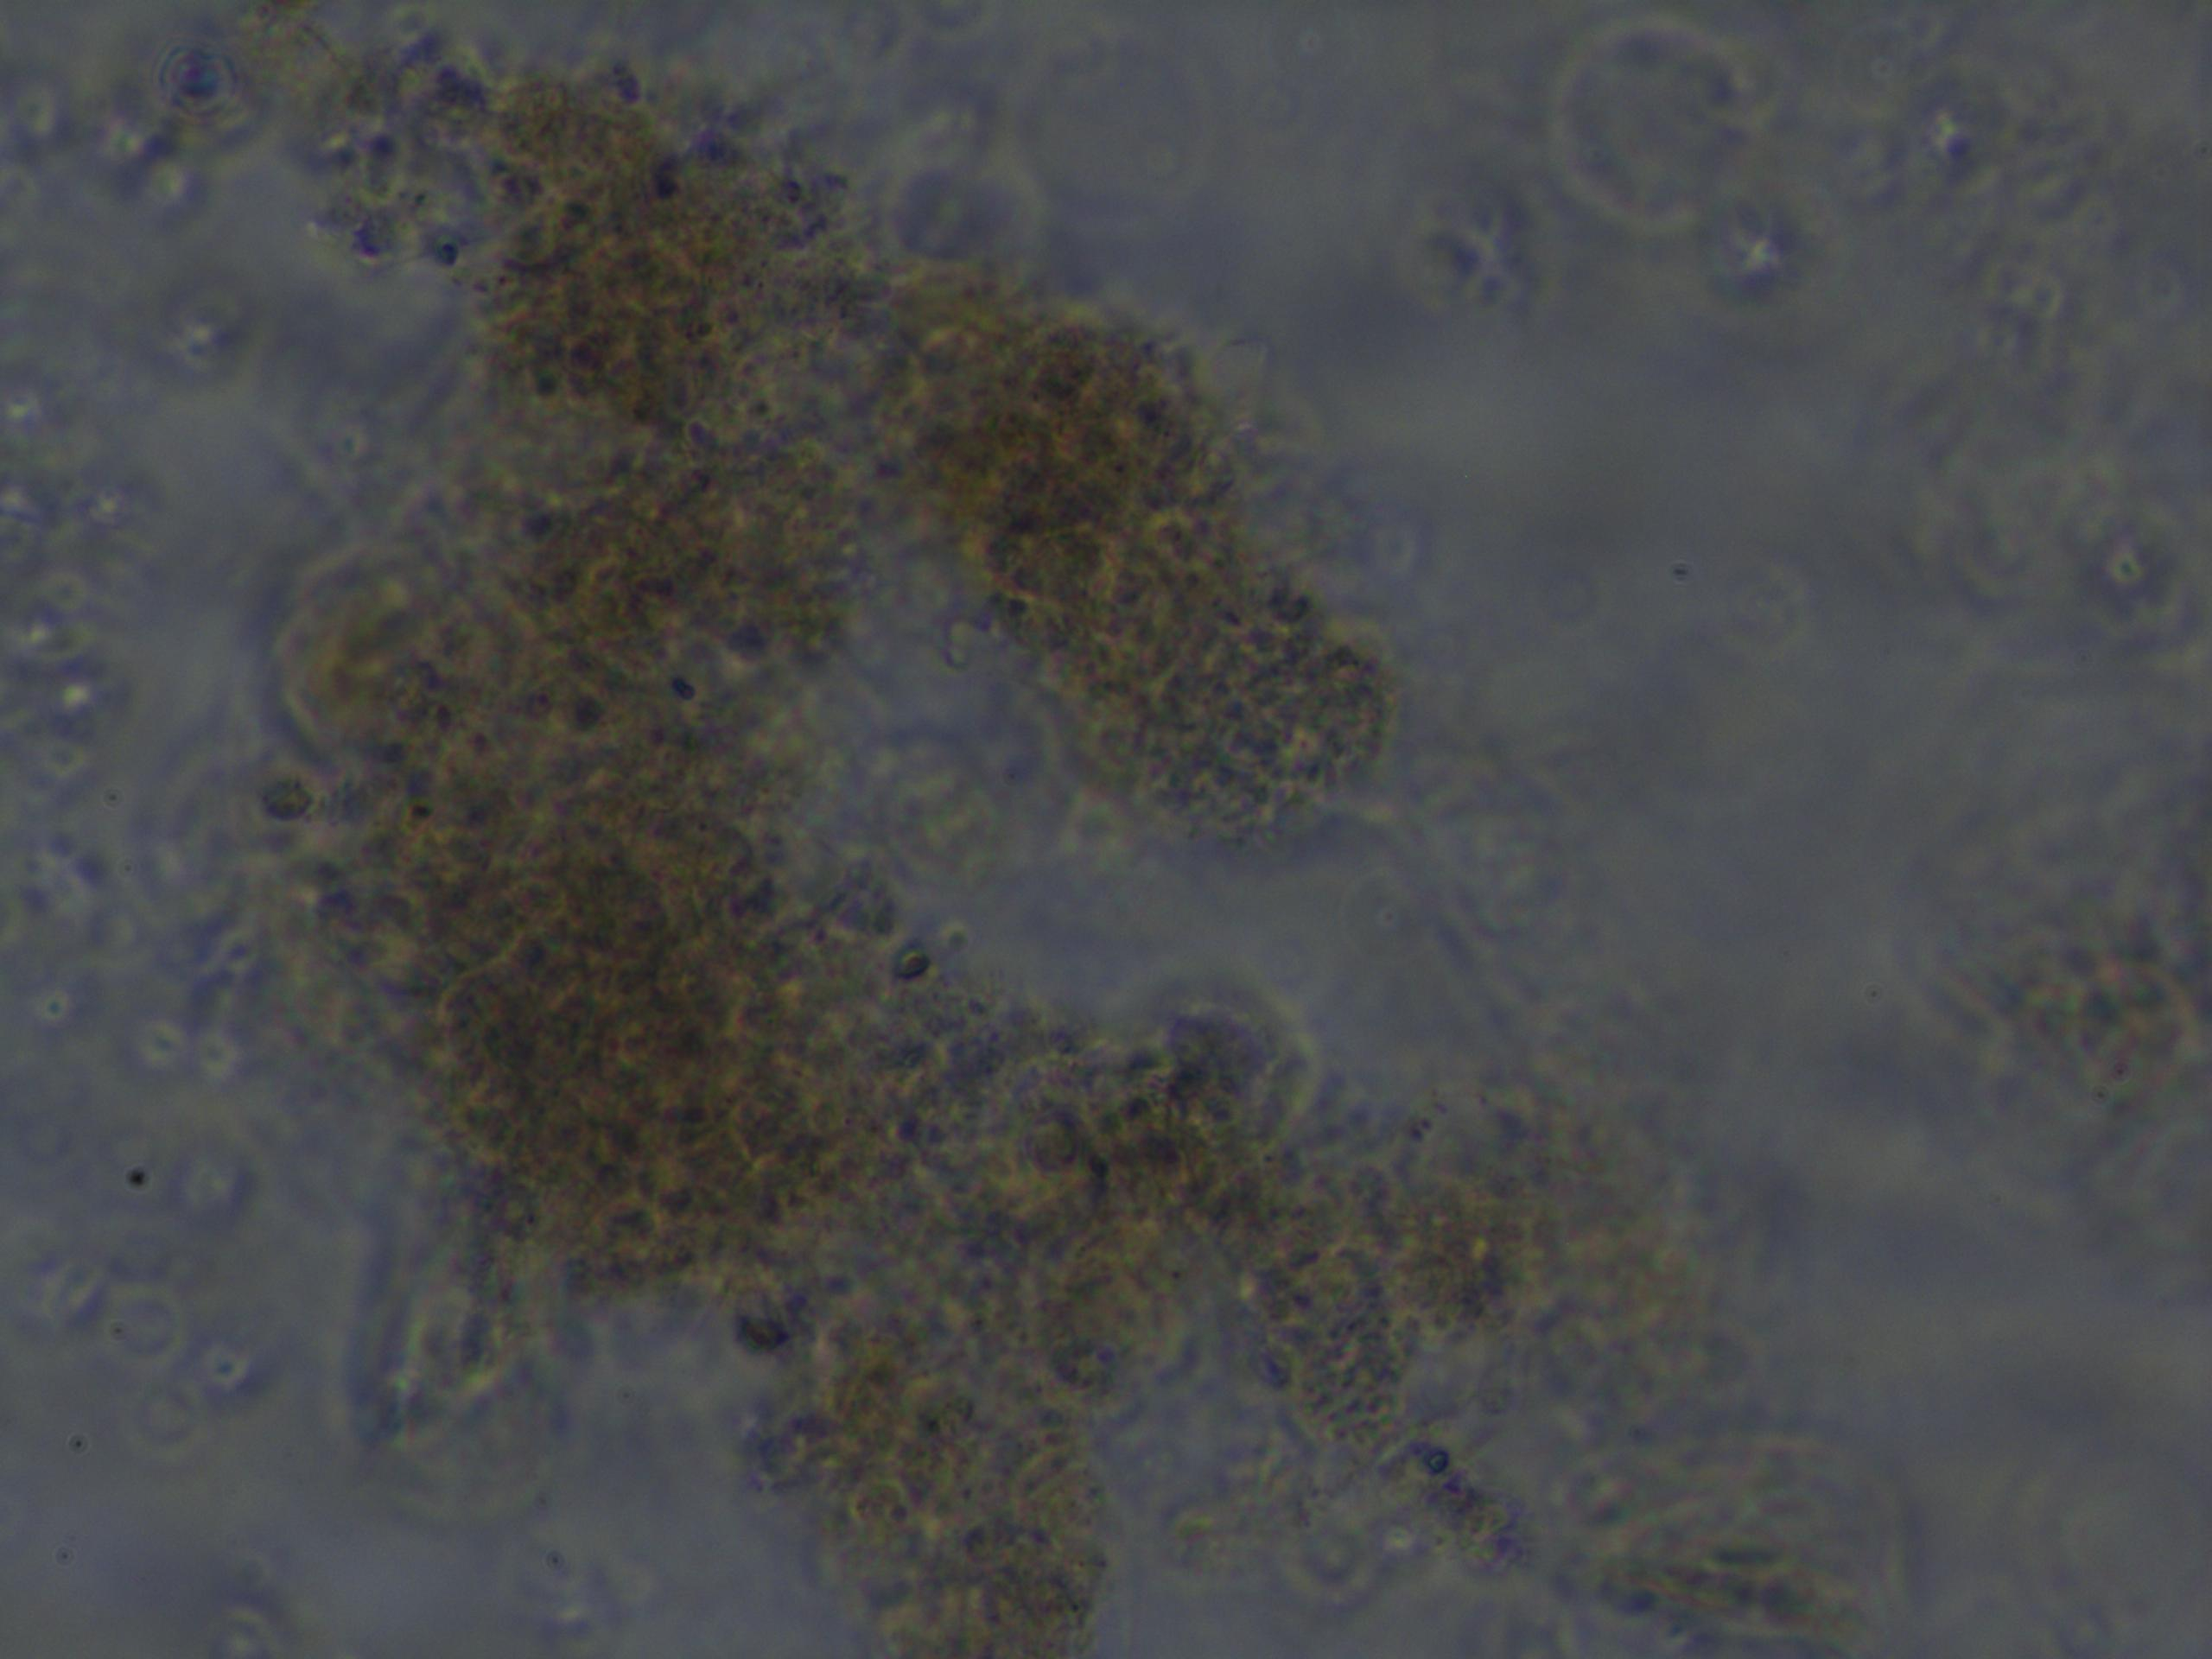open_floc: (305, 3, 1559, 1649)
